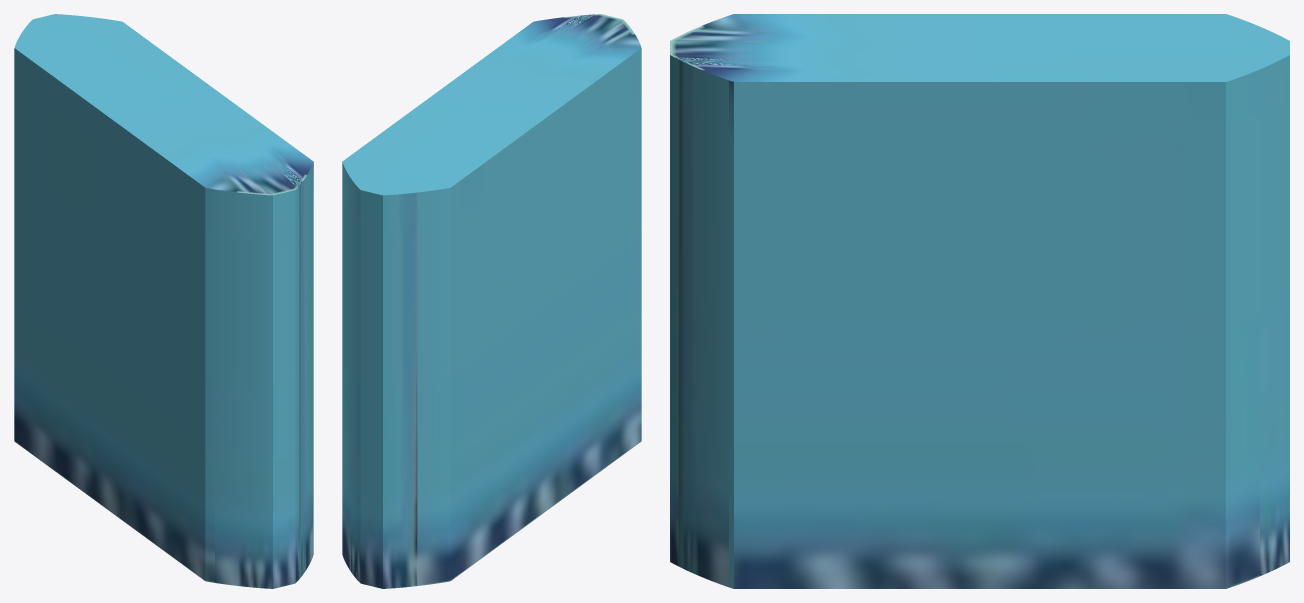
Rendered from aguaTanque.obj.
3 renders of one model, left to right at view 1: azimuth 30°, elevation 25°; view 2: azimuth 150°, elevation 25°; view 3: azimuth 270°, elevation 25°, orthographic. The views are drawn at different scales.
Visible parts, largest first — view 1: pCube7; view 2: pCube7; view 3: pCube7.
Boxes of the visible parts, bbox=[...] form: pCube7: bbox=[14, 14, 313, 588]; pCube7: bbox=[342, 14, 641, 588]; pCube7: bbox=[670, 14, 1289, 588].
Size of the model in its own units: 0.2875 by 1 by 1.11.
Materials: 1 (1 with a texture image).
